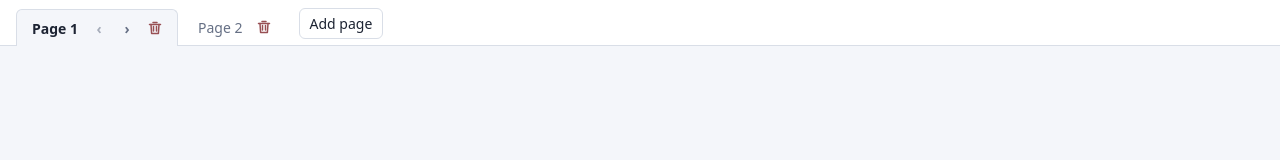
Scenario: PageTabs › renames the active page on one click
The width and height of the screenshot is (1280, 160).
Click the link with class "editable-name" showing "Page 1". click: (55, 28)
box: 32,18 -> 78,38
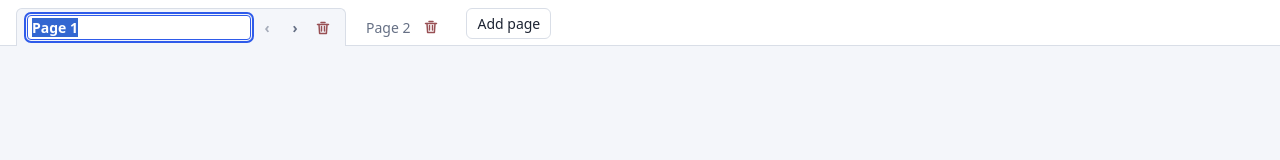
Now the field named "Page name" holds "Page 1", box 27,15 -> 251,40
